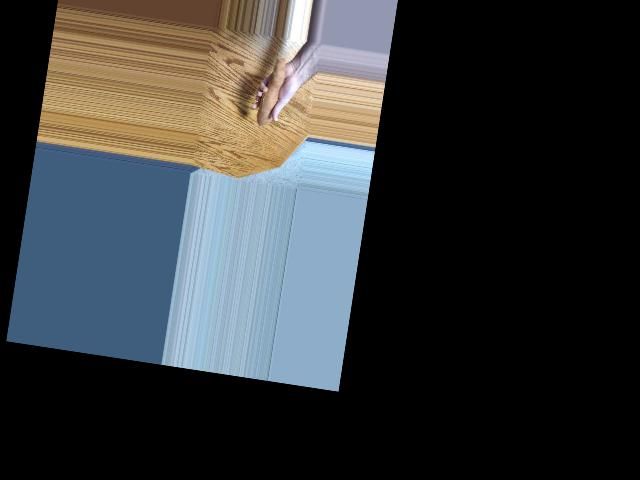sweet_potato: (254, 49, 294, 130)
